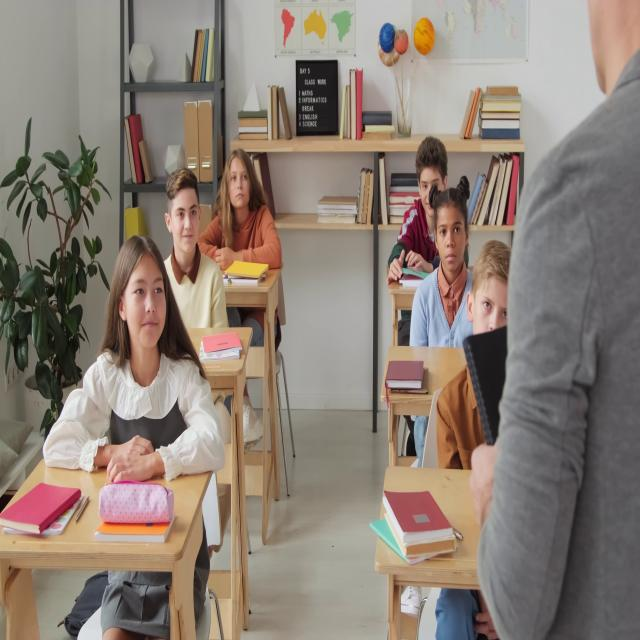listening: (42, 240, 228, 636), (203, 151, 284, 429), (425, 240, 509, 468), (384, 136, 464, 304), (405, 193, 482, 351), (162, 167, 230, 333)
